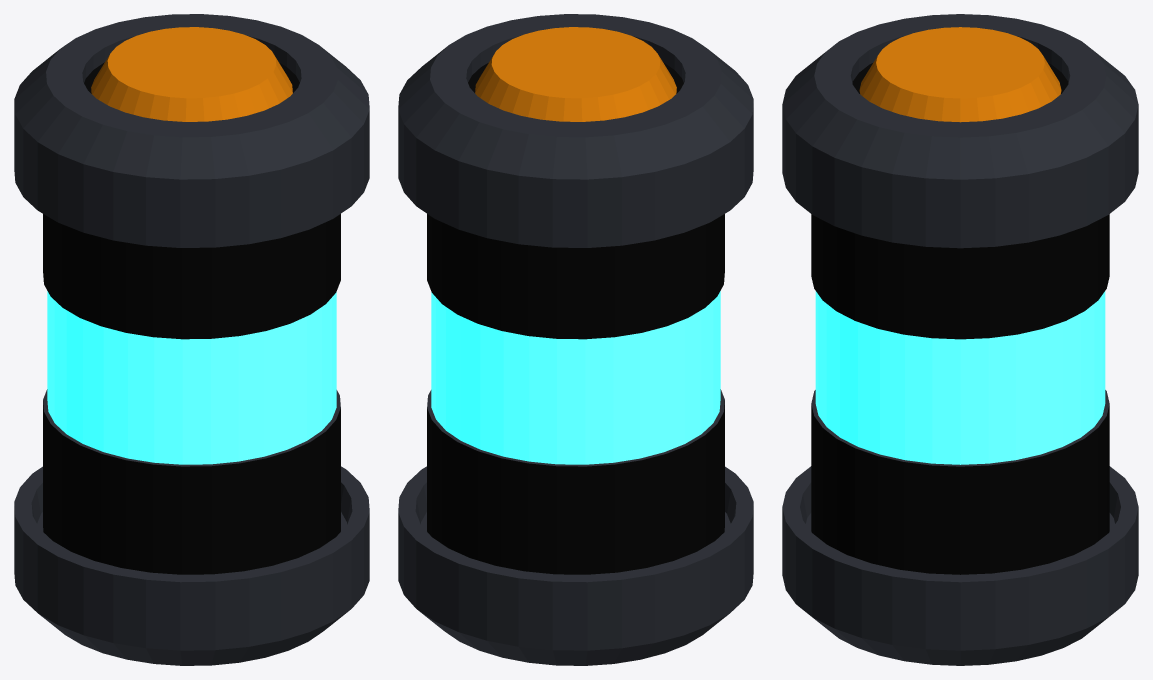
The model's file is SM_Cell.fbx.
3 renders of one model, left to right at view 1: azimuth 30°, elevation 25°; view 2: azimuth 150°, elevation 25°; view 3: azimuth 270°, elevation 25°, orthographic.
Visible parts, largest first — view 1: SM_Cell; view 2: SM_Cell; view 3: SM_Cell.
Part boxes in pixels (box(x1,y1,x2,y2)): SM_Cell: box(14, 14, 369, 665); SM_Cell: box(398, 14, 753, 665); SM_Cell: box(782, 14, 1138, 665).
Size of the model in its own units: 24.55 by 42.16 by 24.55.
